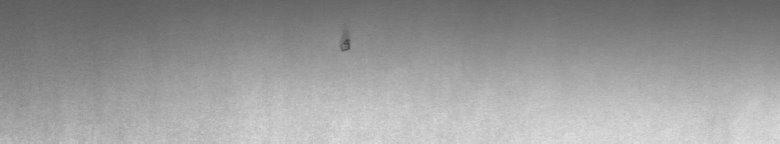fi: (336, 31, 356, 56)
